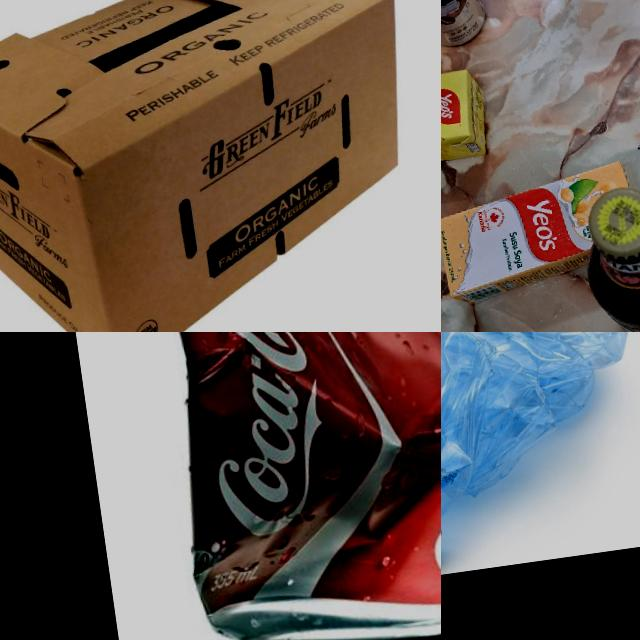caixinha: (441, 159, 640, 309), (441, 68, 497, 173)
garrafa de vidro: (575, 177, 640, 332)
garrafa plástica: (441, 332, 516, 531), (441, 332, 631, 396)
lata: (116, 332, 441, 640)
papelão: (0, 0, 441, 332)
